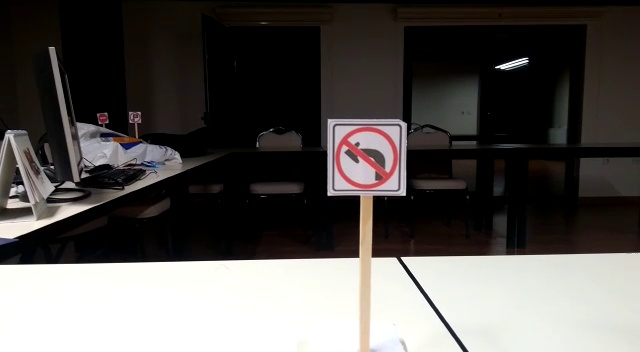sola_donulmez: (332, 125, 404, 196)
